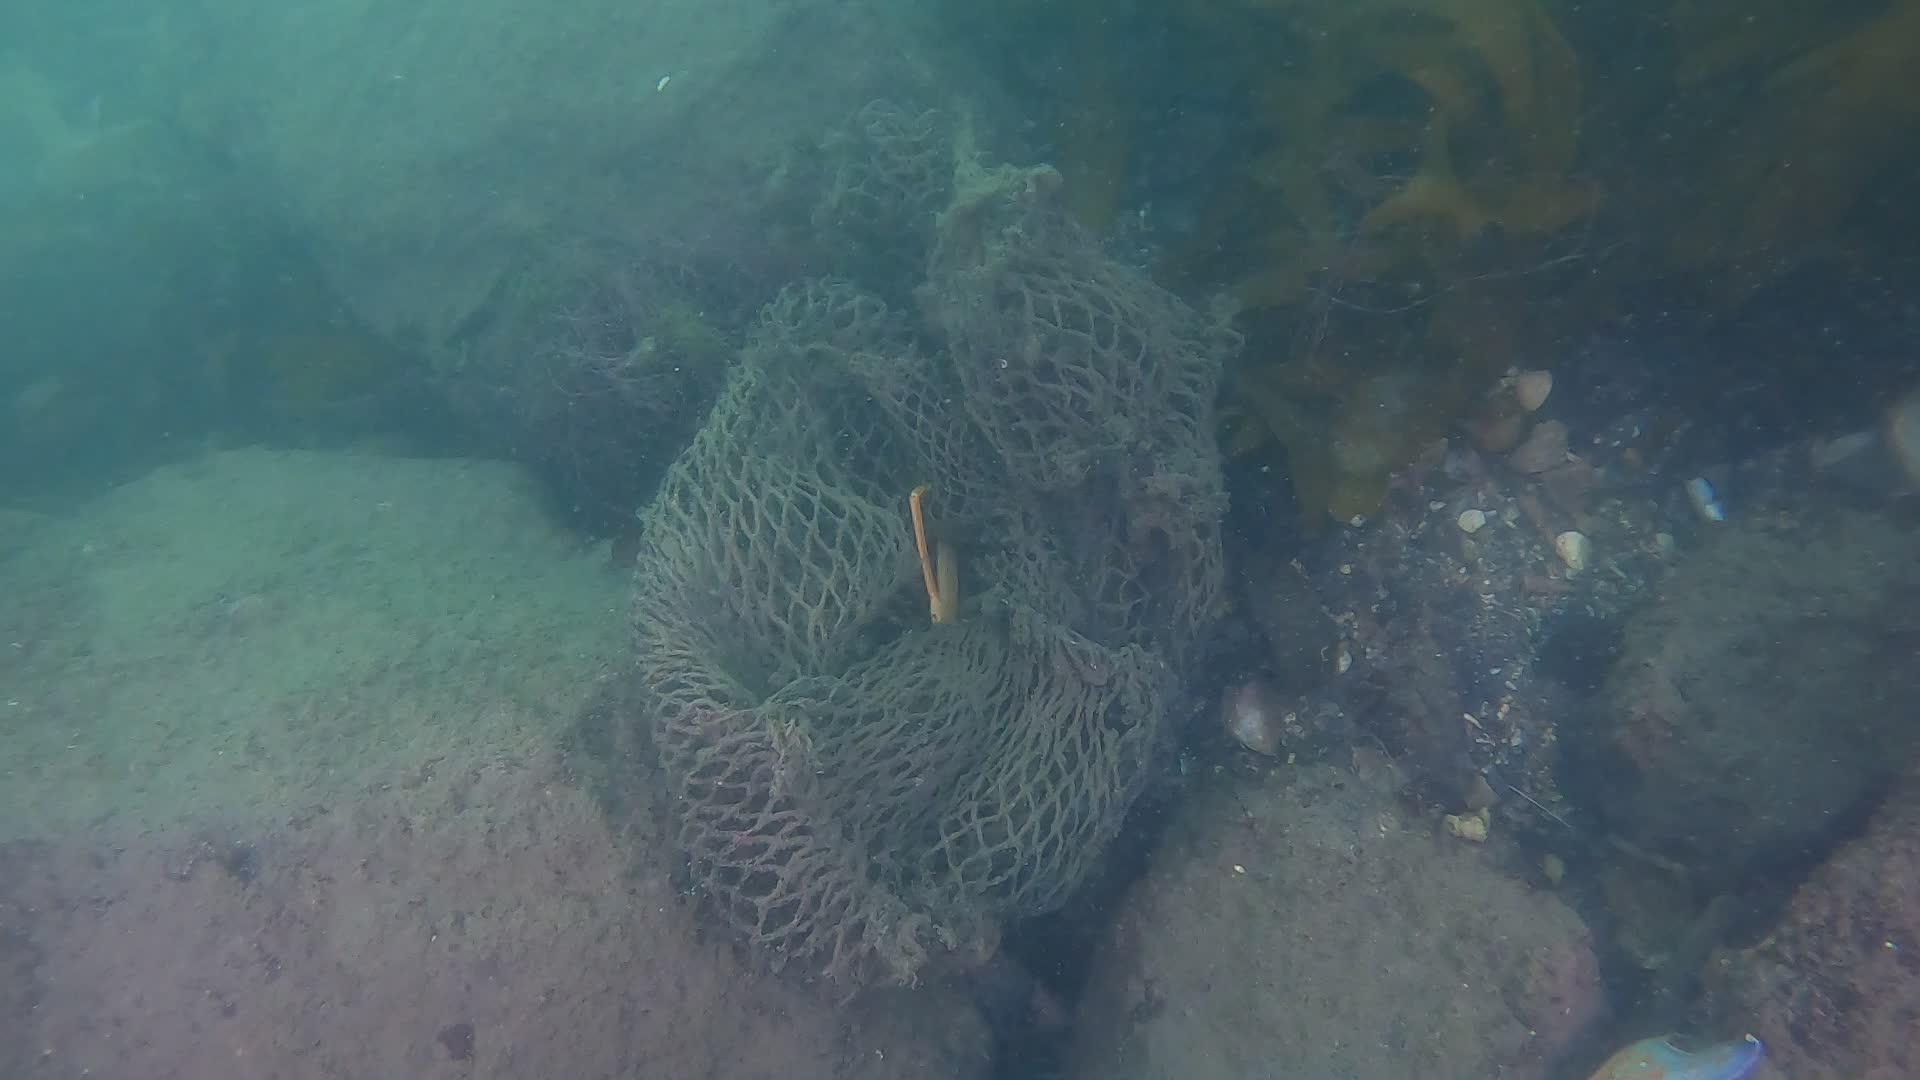fish net: (626, 227, 1240, 993)
